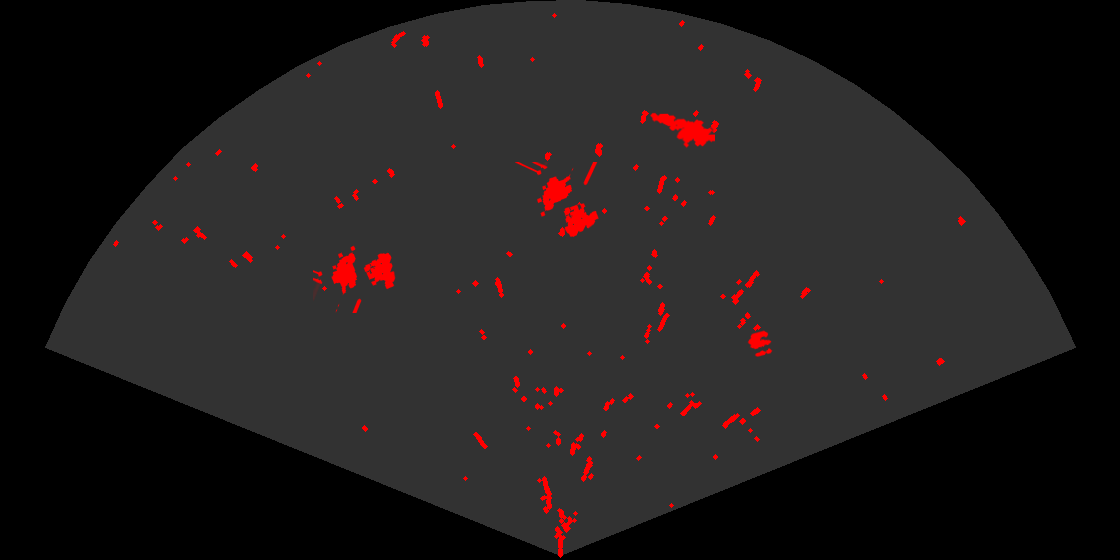ball: (746, 329, 774, 358)
cage: (515, 162, 600, 239), (313, 244, 397, 313)
frogman: (649, 111, 715, 150)
